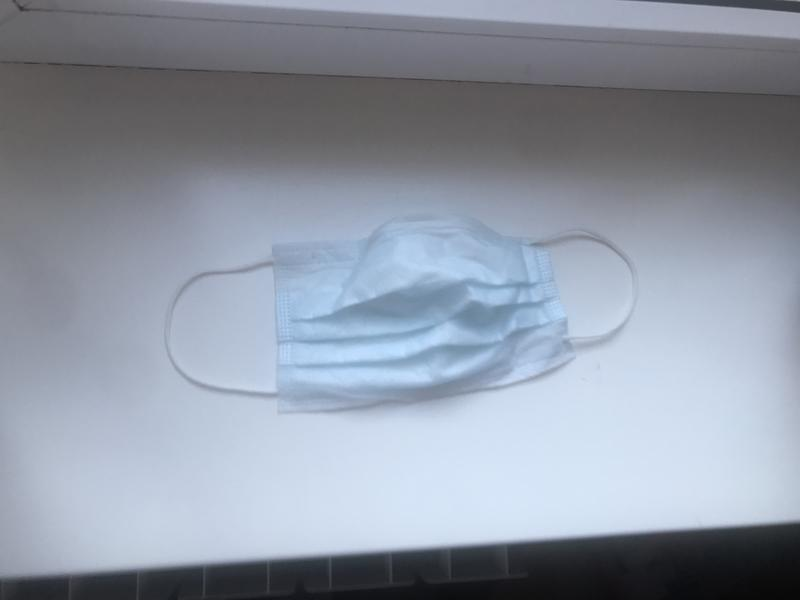medical_mask: (166, 216, 637, 406)
